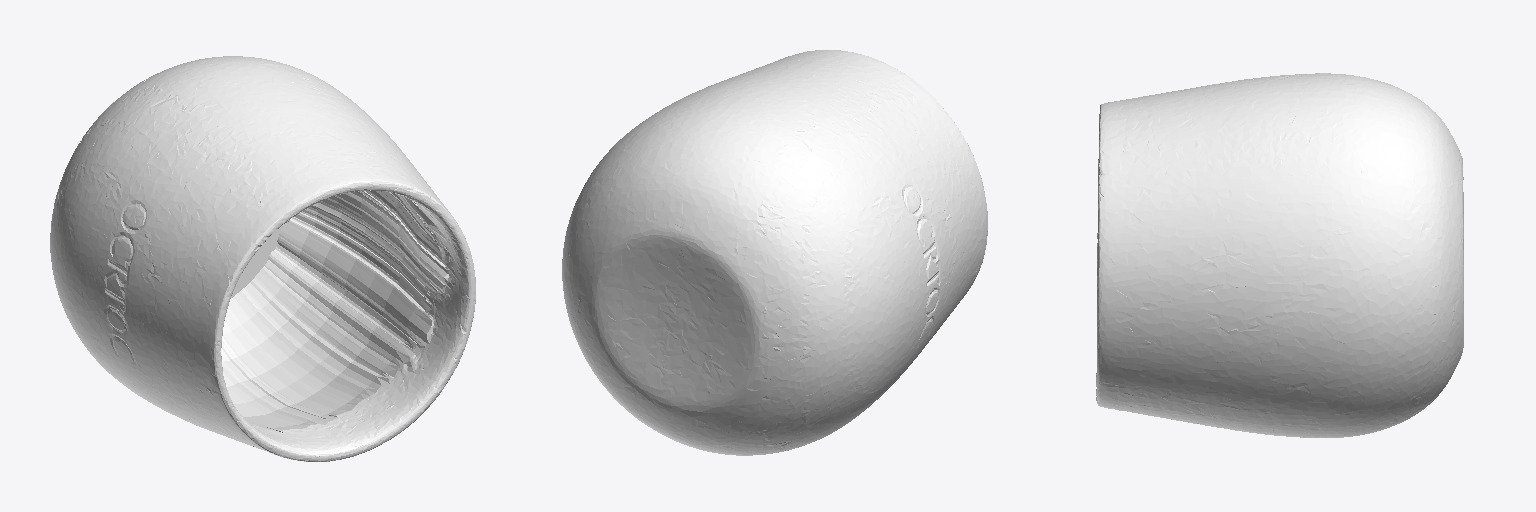
The picture shows the model from 3 angles: view 1: azimuth 30°, elevation 25°; view 2: azimuth 150°, elevation 25°; view 3: azimuth 270°, elevation 25°; orthographic projection.
Visible parts, largest first — view 1: [number redacted]_002_mubei; view 2: [number redacted]_002_mubei; view 3: [number redacted]_002_mubei.
Part boxes in pixels (left/top/right/bottom): [number redacted]_002_mubei: left=50, top=56, right=475, bottom=461; [number redacted]_002_mubei: left=562, top=50, right=987, bottom=455; [number redacted]_002_mubei: left=1096, top=73, right=1463, bottom=437.
Bounding box in the file's own units: 79.13 × 79.02 × 79.75.